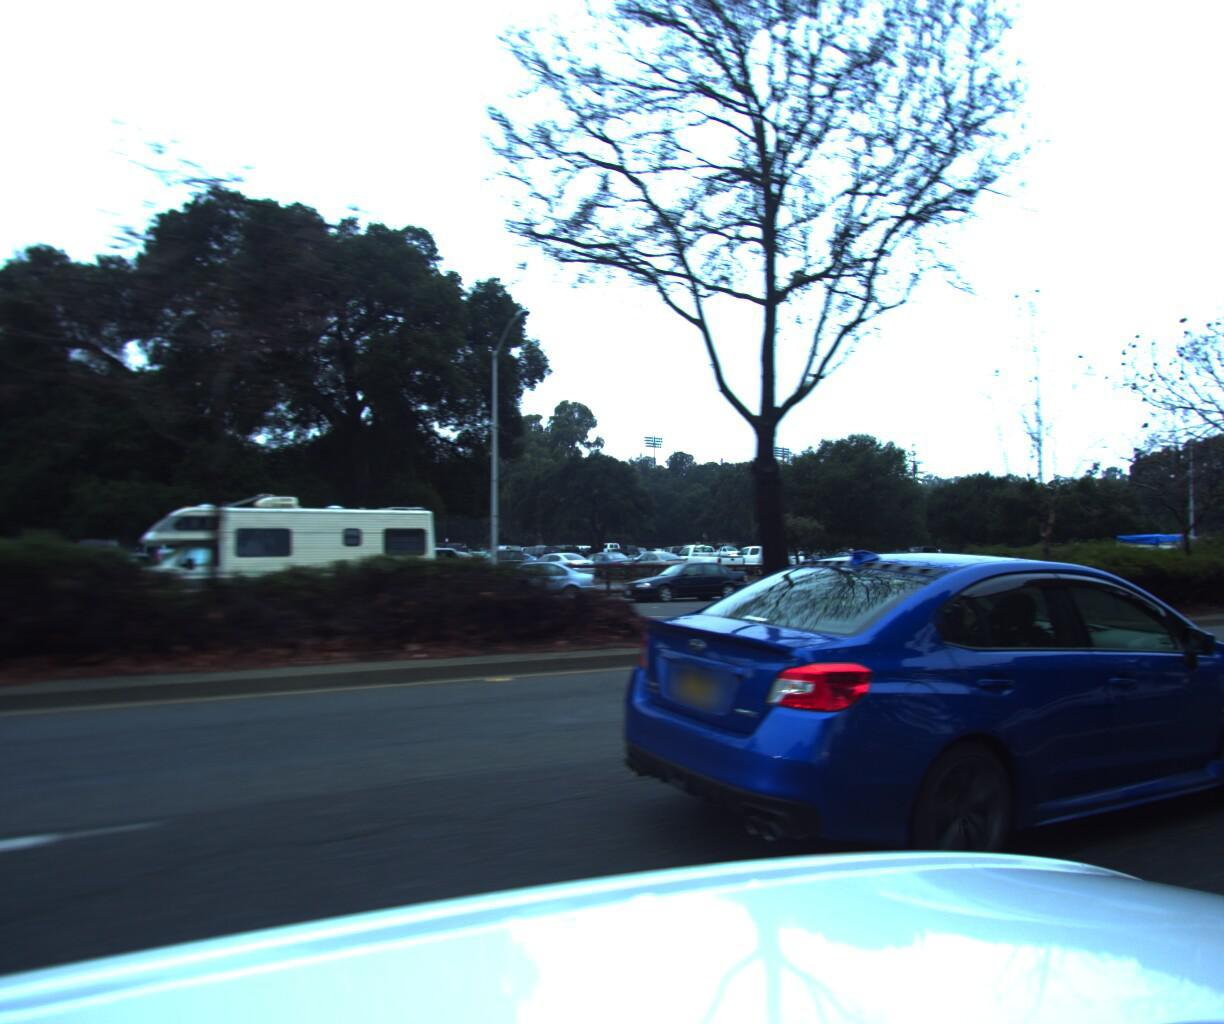car: (586, 552, 1224, 967), (442, 555, 604, 610), (611, 558, 752, 605), (759, 557, 882, 600)
other_vehicle: (127, 489, 445, 622), (1100, 526, 1216, 579)
